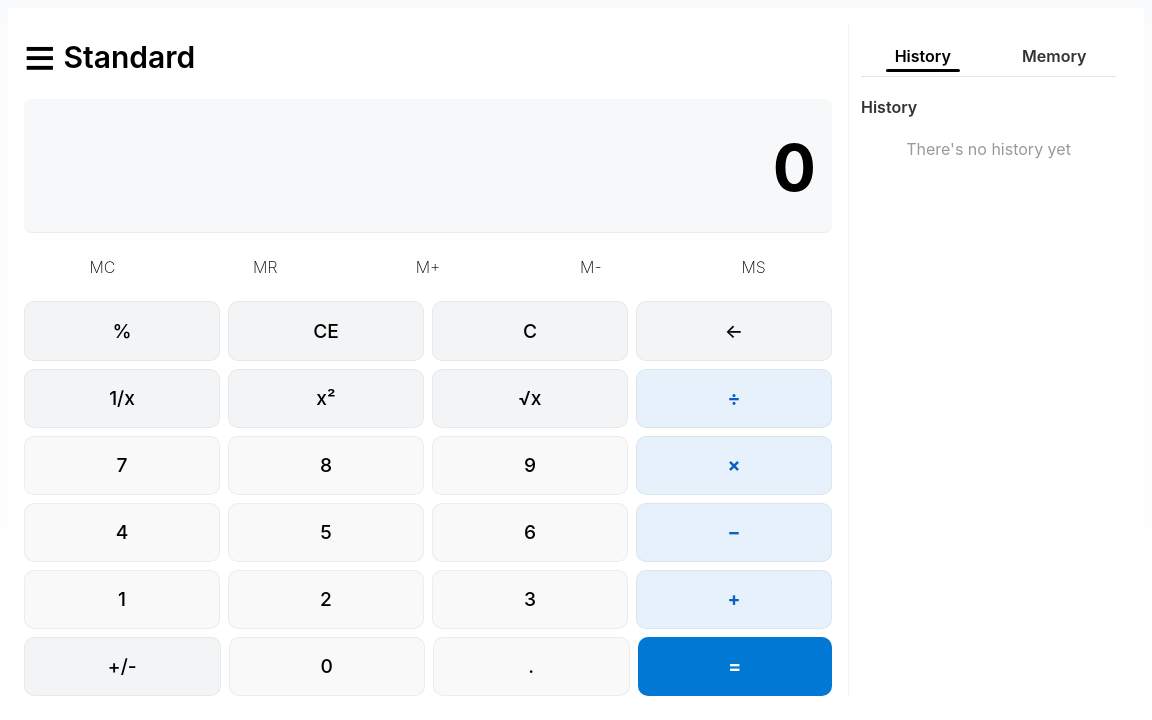
Test case: Calculator UI — detailed (async-safe) › basic addition 1 + 2 = 3
Click the button "1": click(122, 599) x1=24 y1=570 x2=220 y2=629
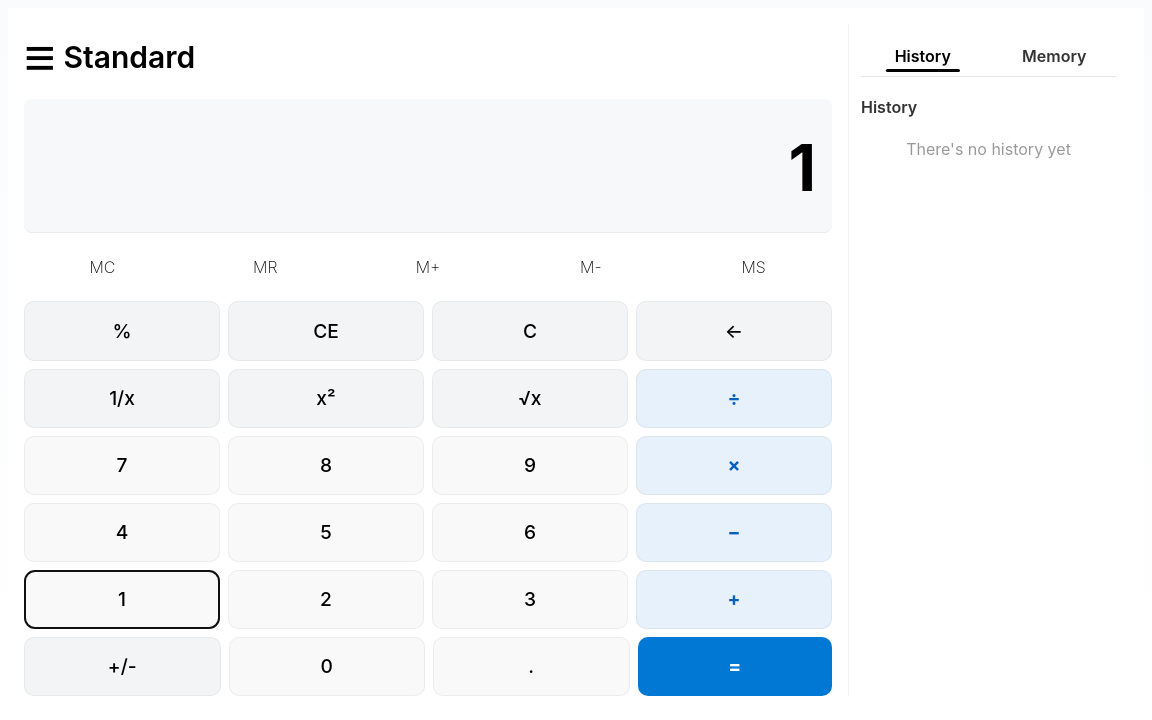
Click the button "+": click(734, 599) x1=636 y1=570 x2=832 y2=629
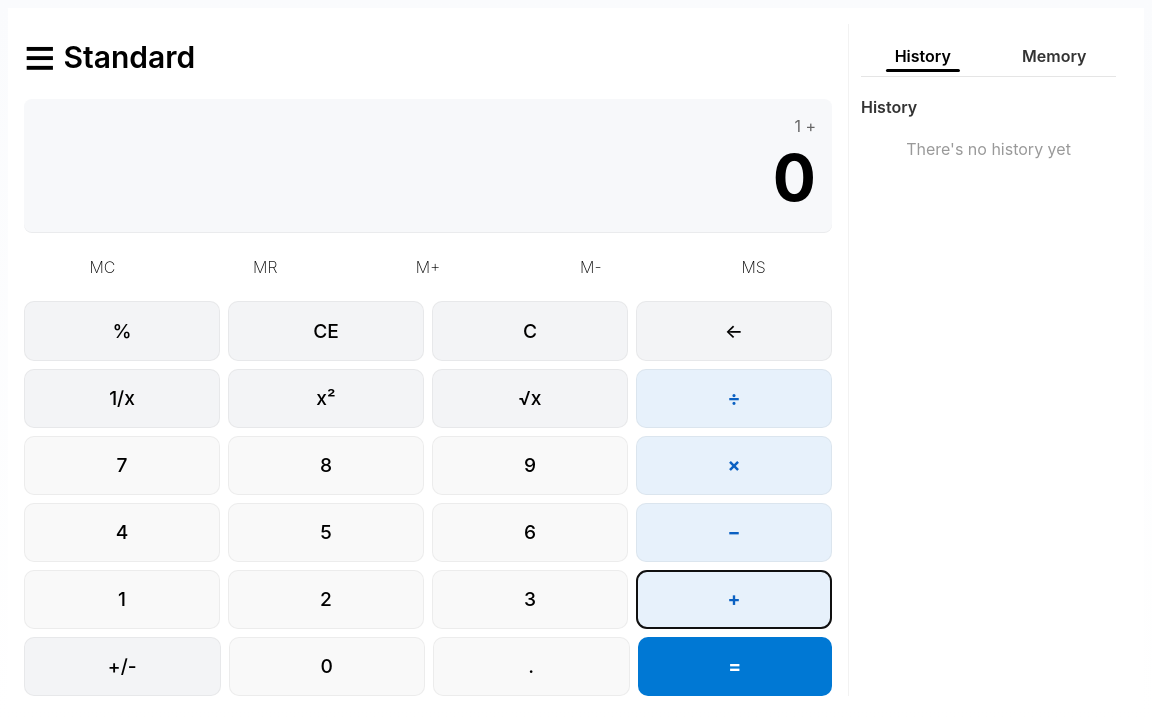
Click the button "2": click(326, 599) x1=228 y1=570 x2=424 y2=629
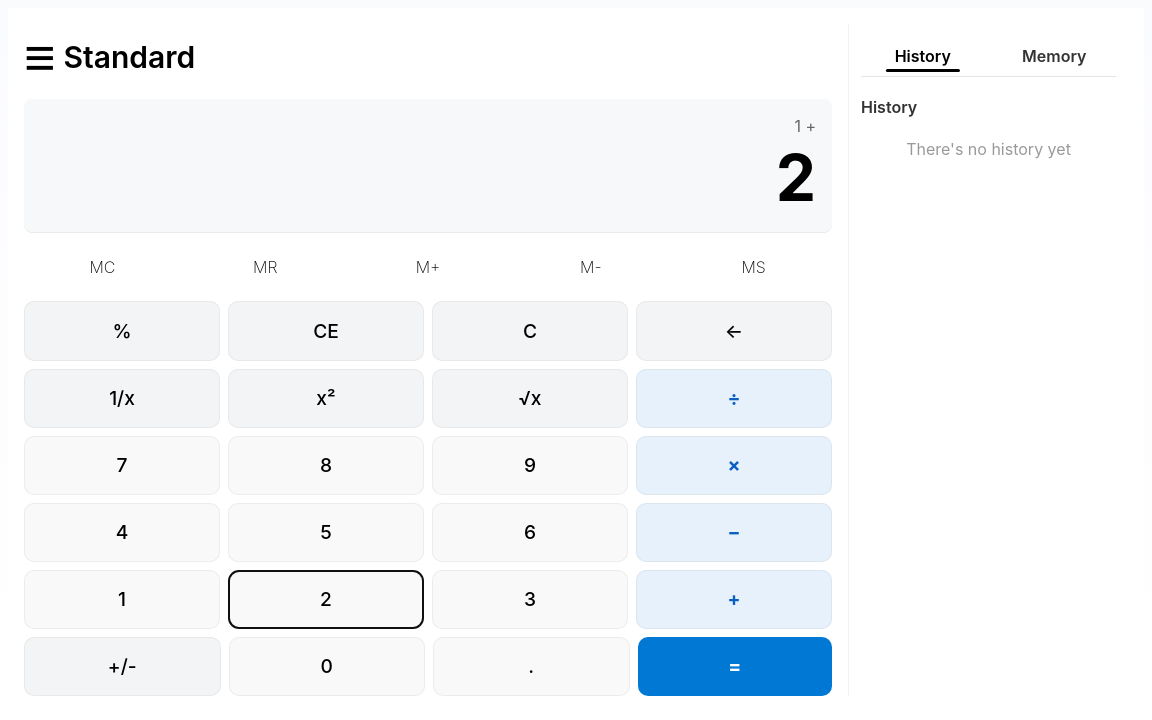
Click the button "=": click(735, 666) x1=638 y1=637 x2=832 y2=696
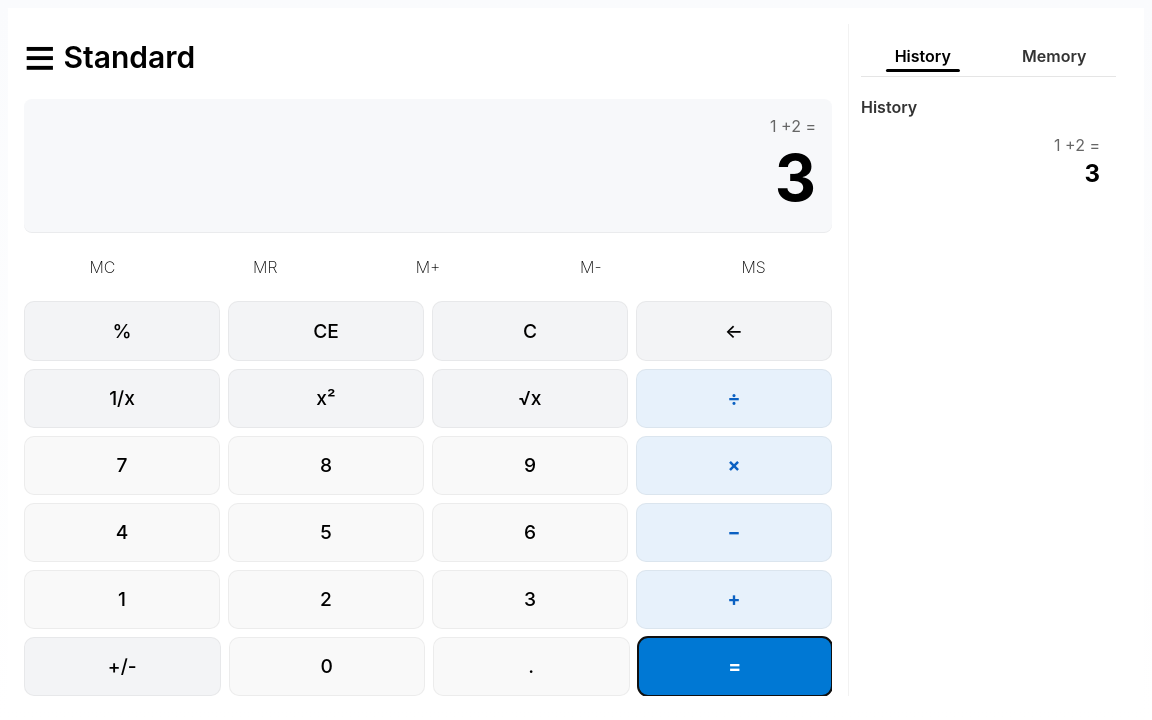
Result: the field with test id "display" reads "3" at x1=775 y1=140 x2=816 y2=216
